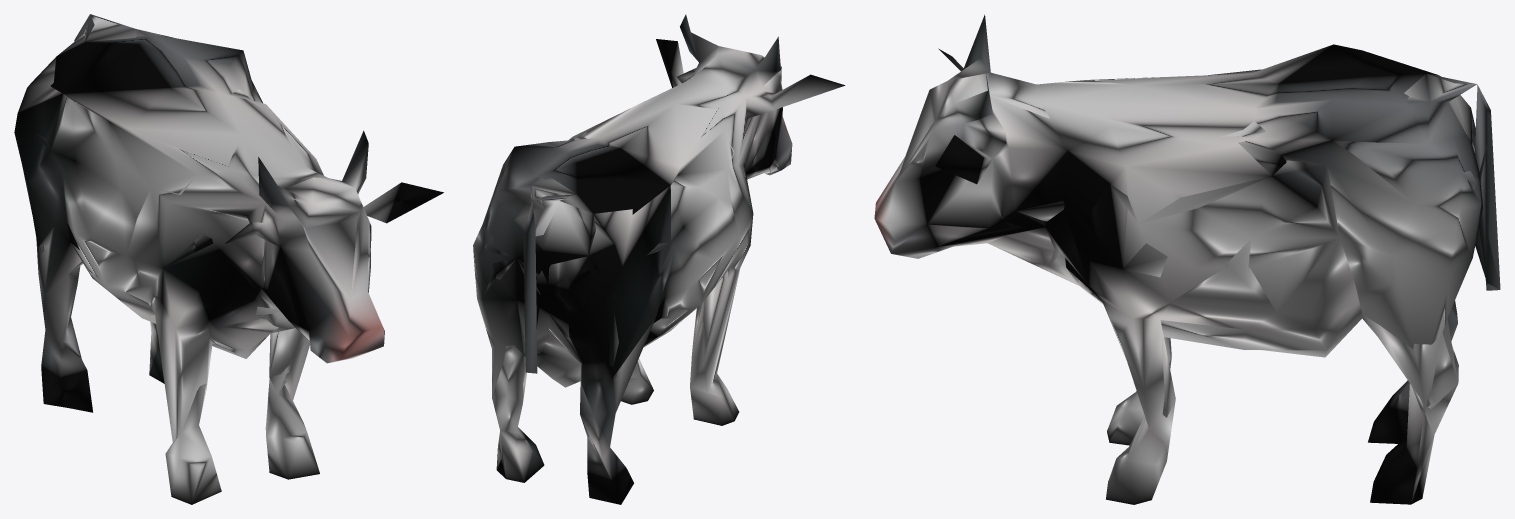
File: gen3d-dairy-cow-lod1.glb
3 renders of one model, left to right at view 1: azimuth 30°, elevation 25°; view 2: azimuth 150°, elevation 25°; view 3: azimuth 270°, elevation 25°, orthographic. The views are drawn at different scales.
Visible parts, largest first — view 1: part_0; view 2: part_0; view 3: part_0.
Boxes of the visible parts, left/top/right/bottom form: part_0: left=14, top=14, right=443, bottom=504; part_0: left=473, top=14, right=845, bottom=504; part_0: left=874, top=14, right=1500, bottom=504.
Bounding box in the file's own units: 0.5887 × 0.9987 × 1.33.
